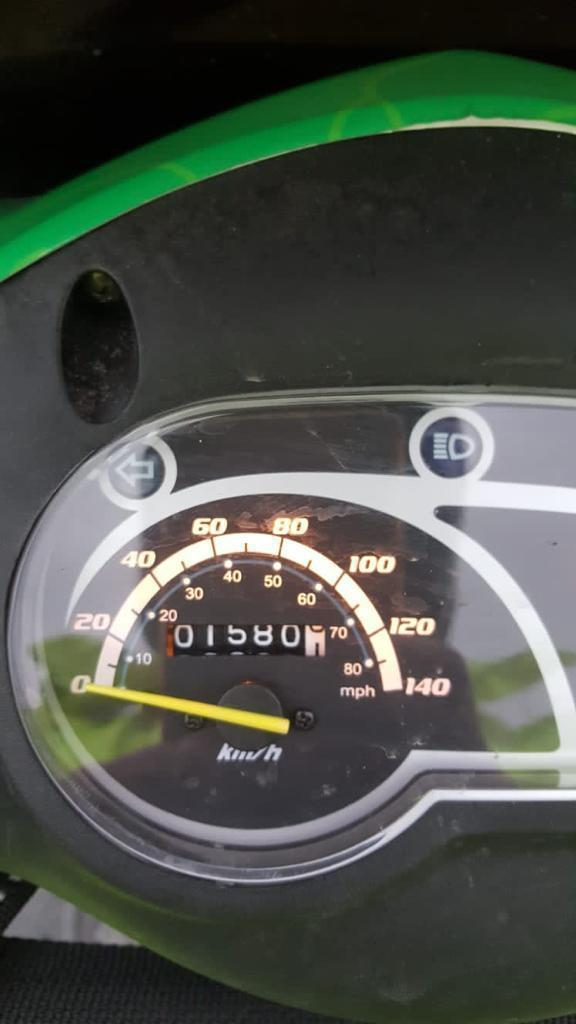0: (277, 623, 301, 651), (172, 624, 196, 650)
1: (204, 623, 219, 649), (311, 637, 324, 657)
5: (226, 622, 247, 649)
8: (252, 623, 275, 649)
odometer: (165, 622, 328, 659)
